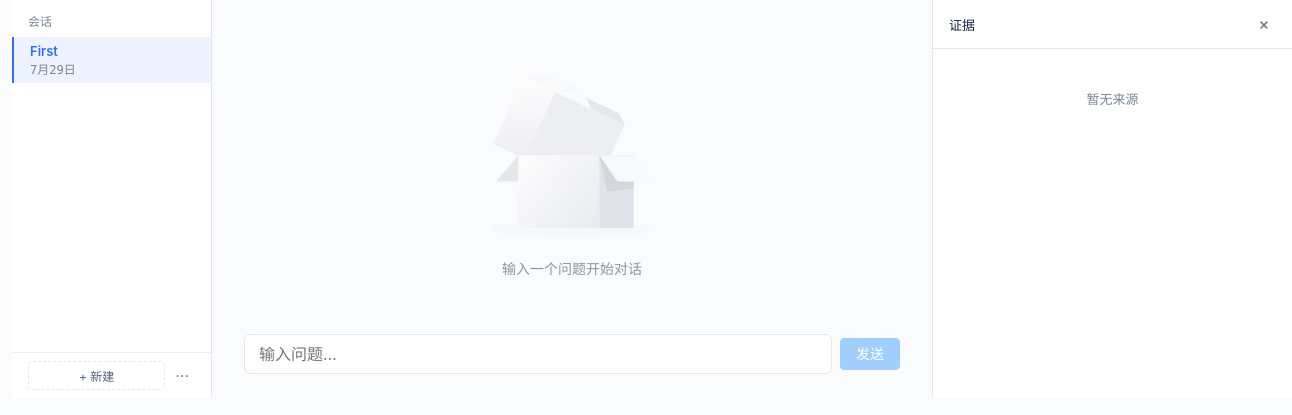
ConversationView › cancels an active stream
Type "Cancel this" into the field named "你的问题" at (538, 354), box [244,334,832,374]
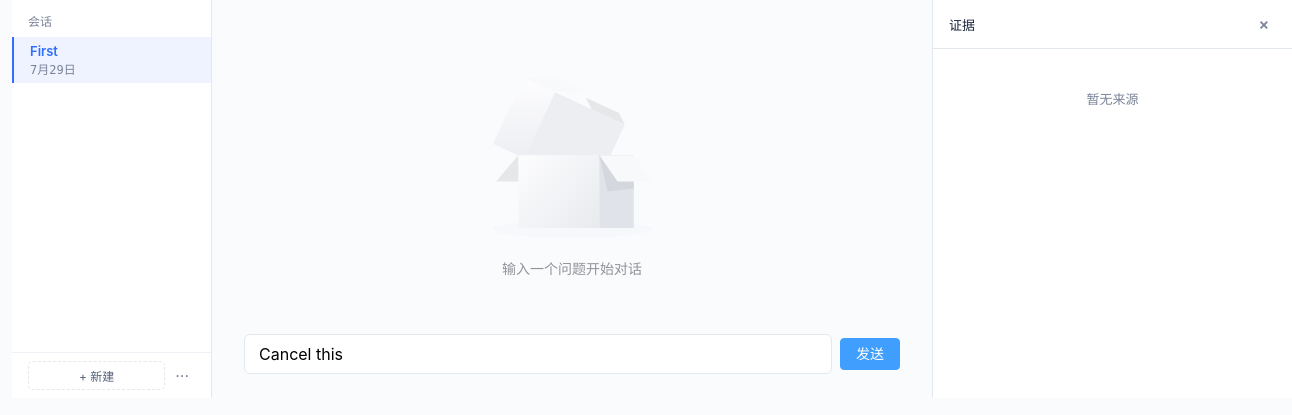
Submit the form with test id "conversation-composer", box [244,318,900,374]
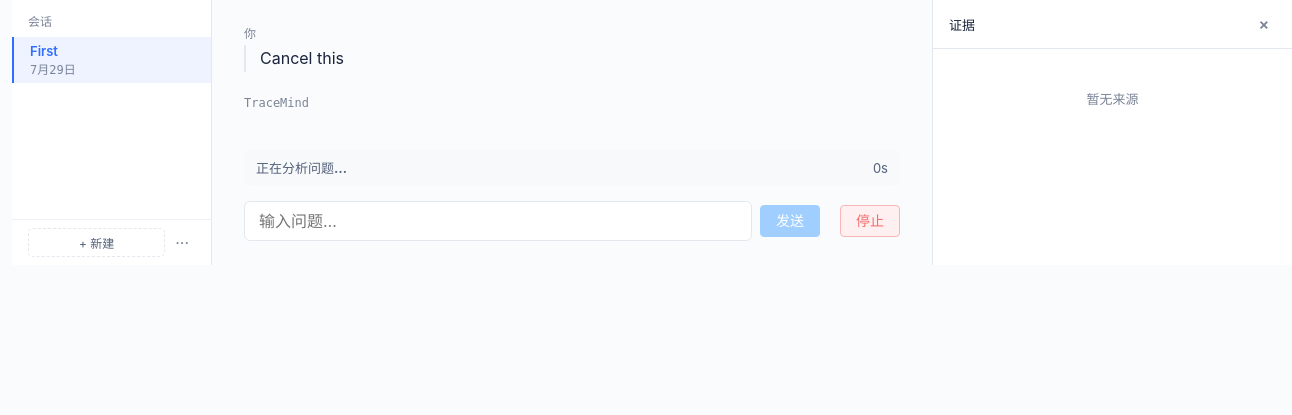
Click the button with test id "stop-generation" at (870, 221), box [840,205,900,237]
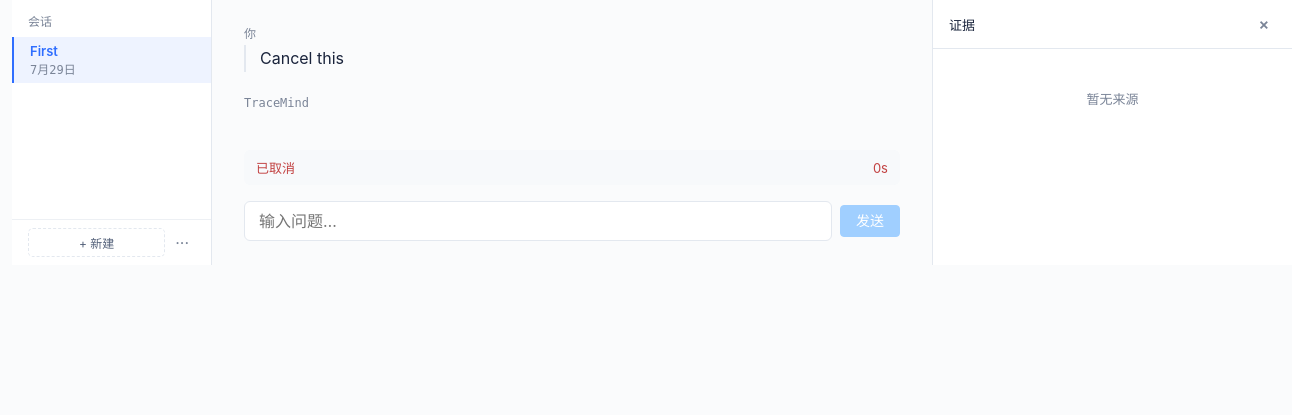
Expected: the text "已取消" is shown, [256,158,295,177]
